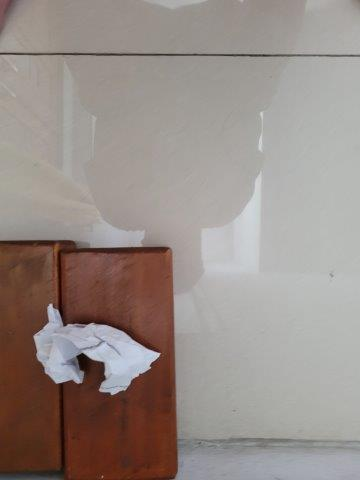kertas: (32, 301, 161, 393)
